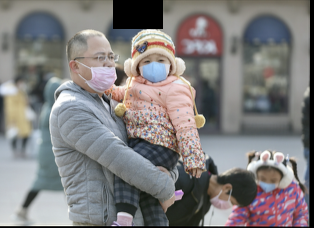mask_weared_incorrect: (76, 49, 119, 95)
with_mask: (136, 54, 171, 84), (206, 194, 238, 211), (256, 173, 279, 193)
